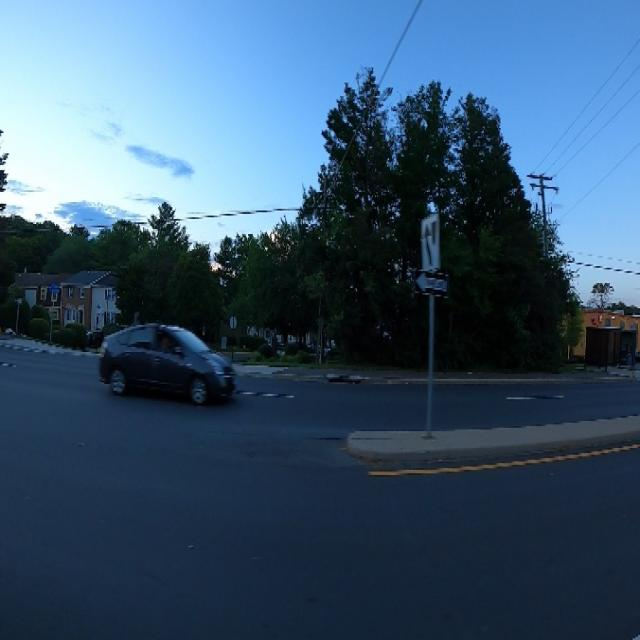cars: (98, 316, 244, 419)
